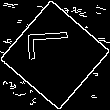L_E: (29, 38, 81, 72)
